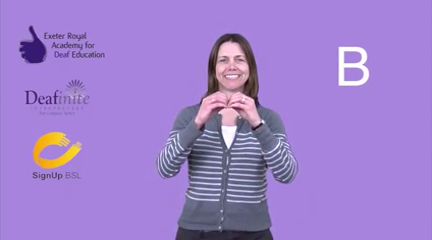B: (197, 90, 260, 122)
